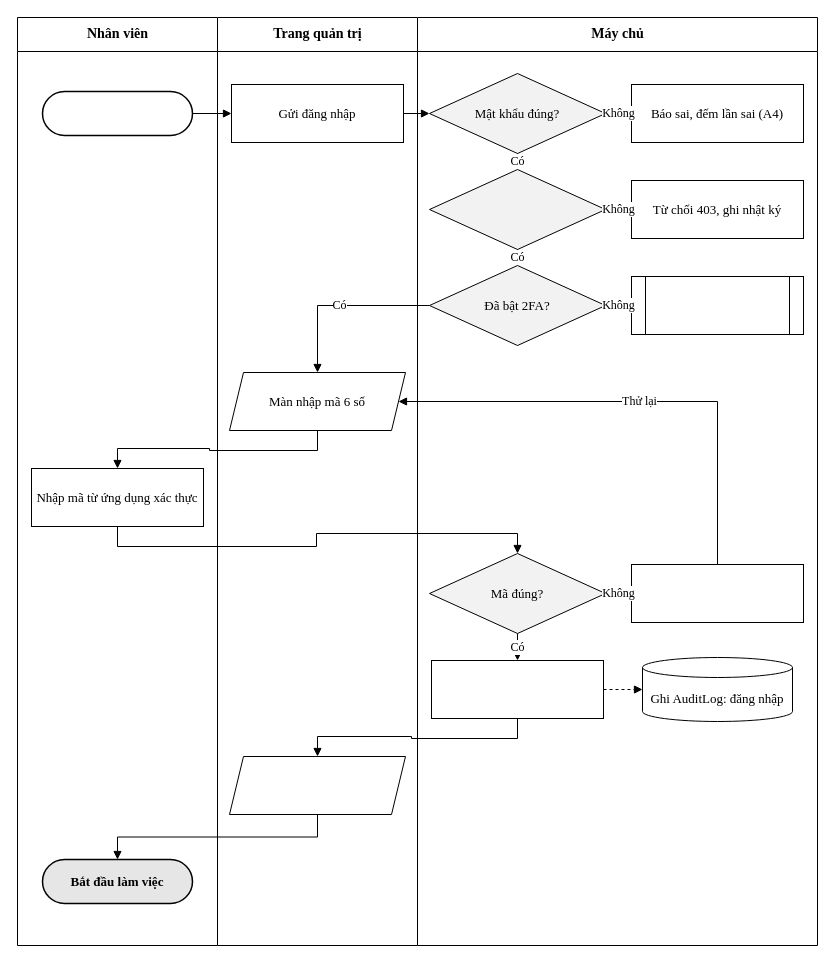
This 835x963 diagram has some shape labels left out. Each missing label, with the centre of its shape:
Bắt thiết lập 2FA (A1): [717,305]
Cấp phiên quản trị 8 giờ: [517,689]
Hiện menu theo vai trò: [317,785]
Là nhân viên?: [517,209]
Nhập email, mật khẩu: [117,113]
Sai 5 lần: khóa 15 phút: [717,593]
